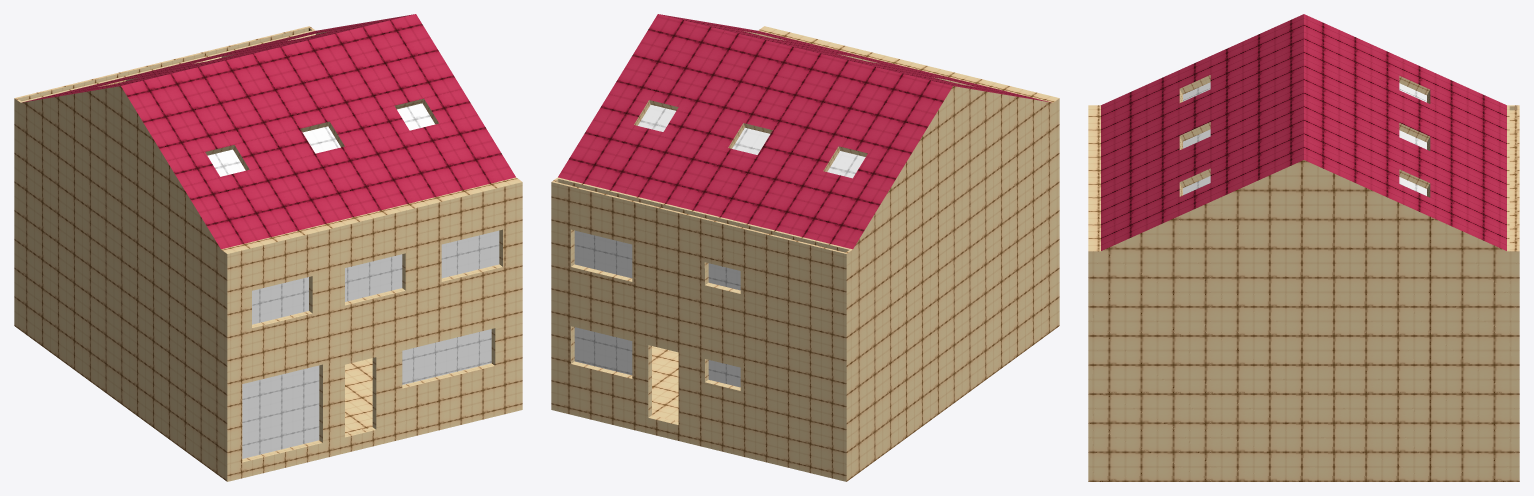
The model's file is Casa_EXTERIOR_COMPLETA.fbx.
3 views of the same model, side by side, from view 1: azimuth 30°, elevation 25°; view 2: azimuth 150°, elevation 25°; view 3: azimuth 270°, elevation 25° (orthographic).
Visible parts, largest first — view 1: Casa_EXTERIOR_COMPLETA; view 2: Casa_EXTERIOR_COMPLETA; view 3: Casa_EXTERIOR_COMPLETA.
Boxes of the visible parts, bbox=[...] form: Casa_EXTERIOR_COMPLETA: bbox=[14, 14, 522, 481]; Casa_EXTERIOR_COMPLETA: bbox=[551, 14, 1059, 481]; Casa_EXTERIOR_COMPLETA: bbox=[1088, 14, 1519, 481].
Bounding box in the file's own units: 10.38 × 10.68 × 12.97.
